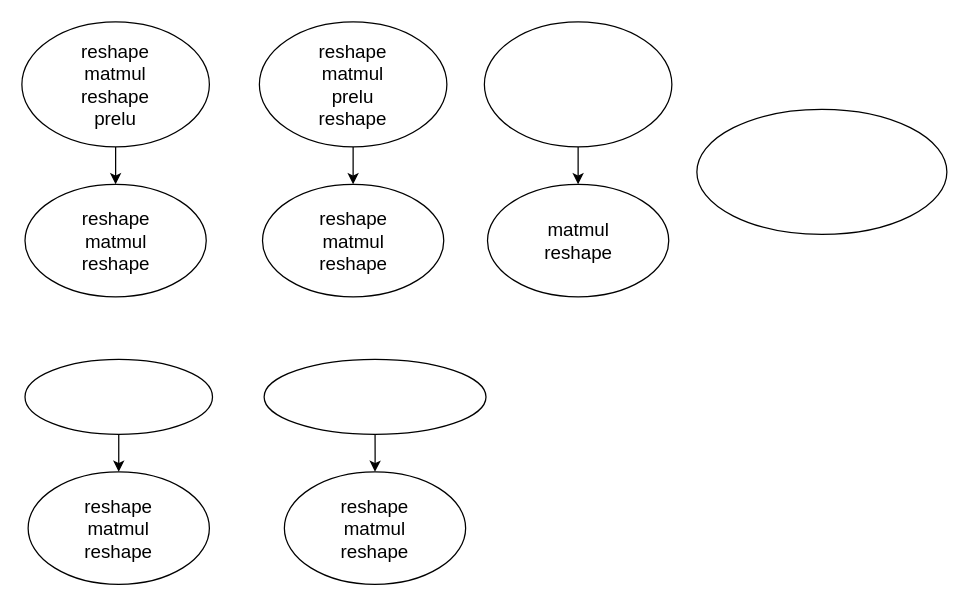
The diagram is 969 pixels wide and 606 high, and some of its shapes have lost their labels. Here are the shapes that lost their labels. From the top down, the centre of each, then its label:
pixel 577 84: reshape matmul prelu
pixel 821 171: reshape dnn_layer_bottom_whole reshape
pixel 118 396: matmul prelu
pixel 374 396: dnn_layer_bottom_half
